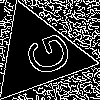G: (14, 29, 75, 83)
